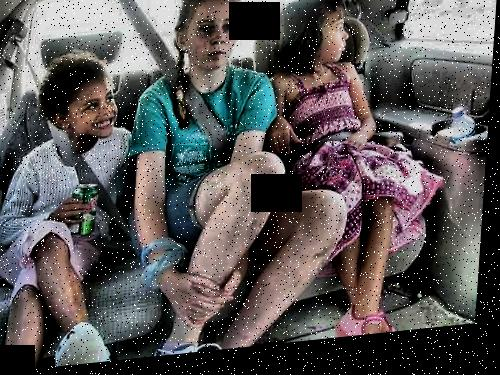seatbelt: (1, 22, 149, 259), (102, 0, 248, 175)
